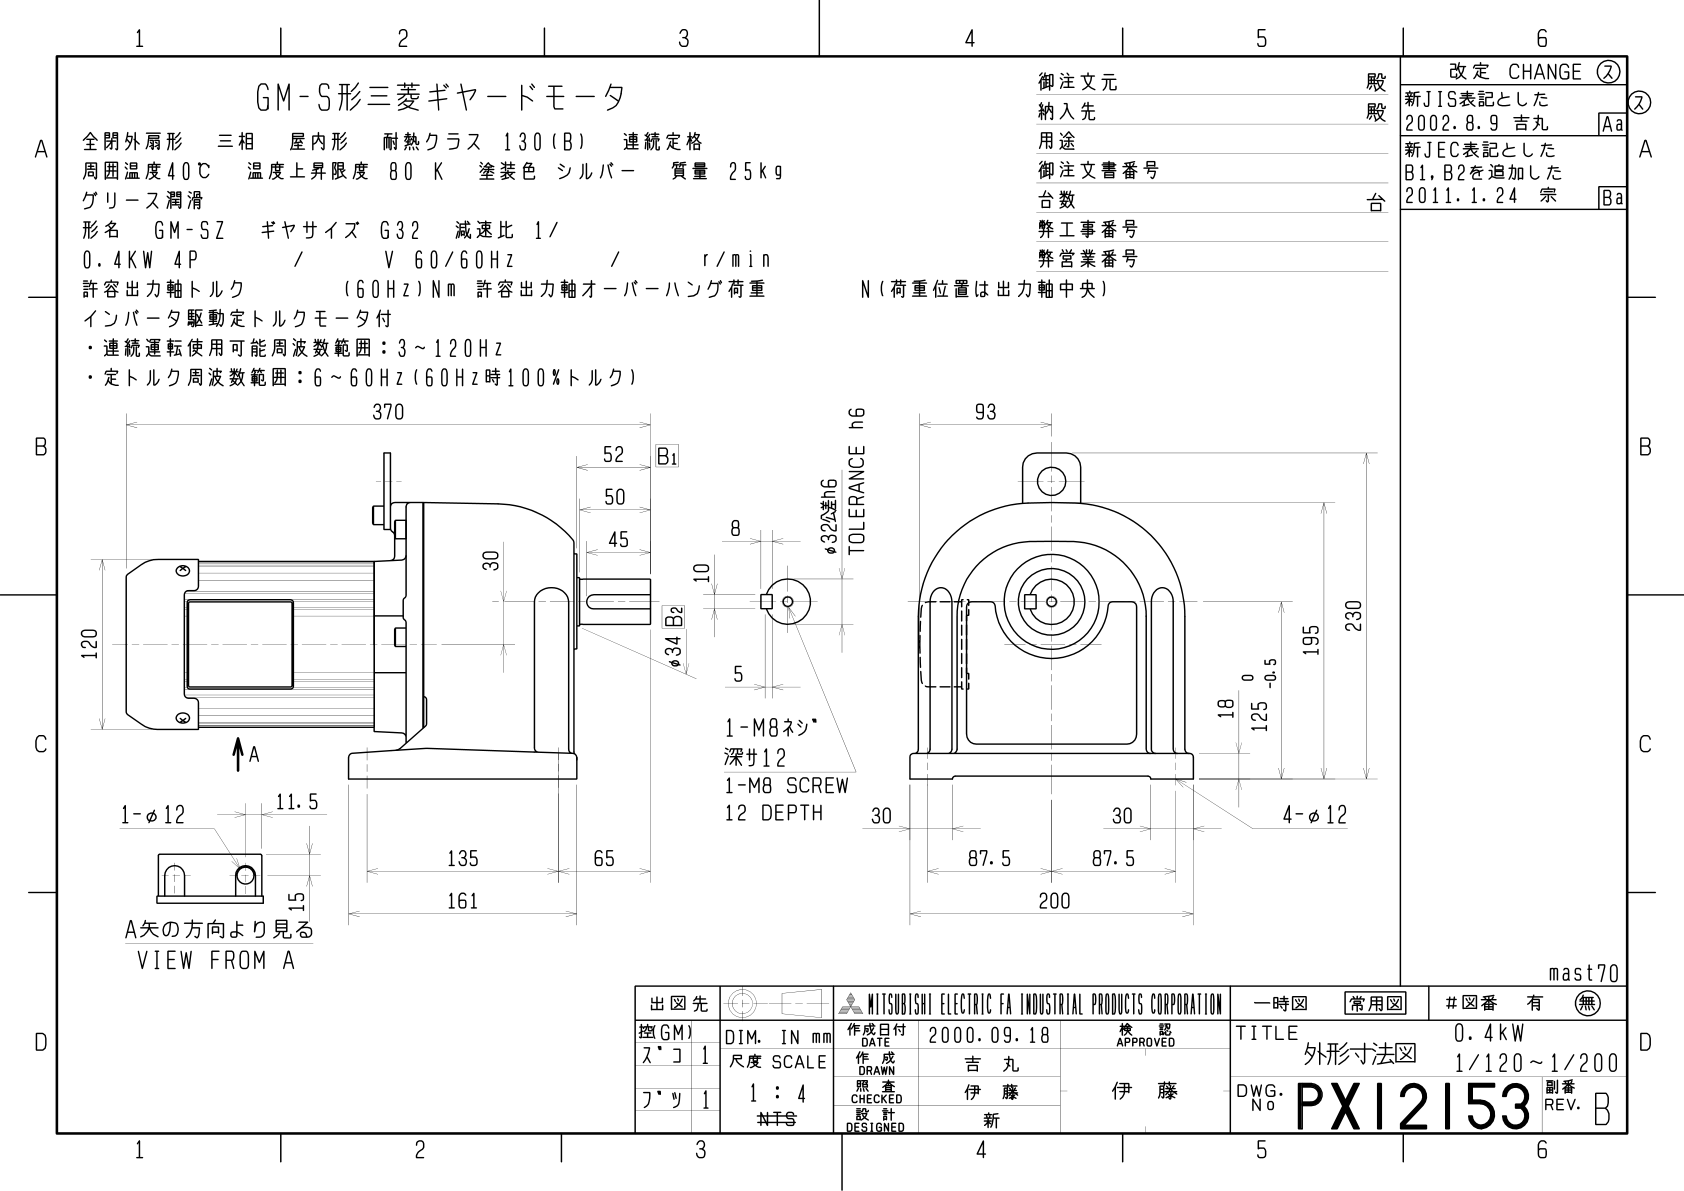GM_S_インバタ屋外＿三相_脚: (64, 394, 1386, 951)
